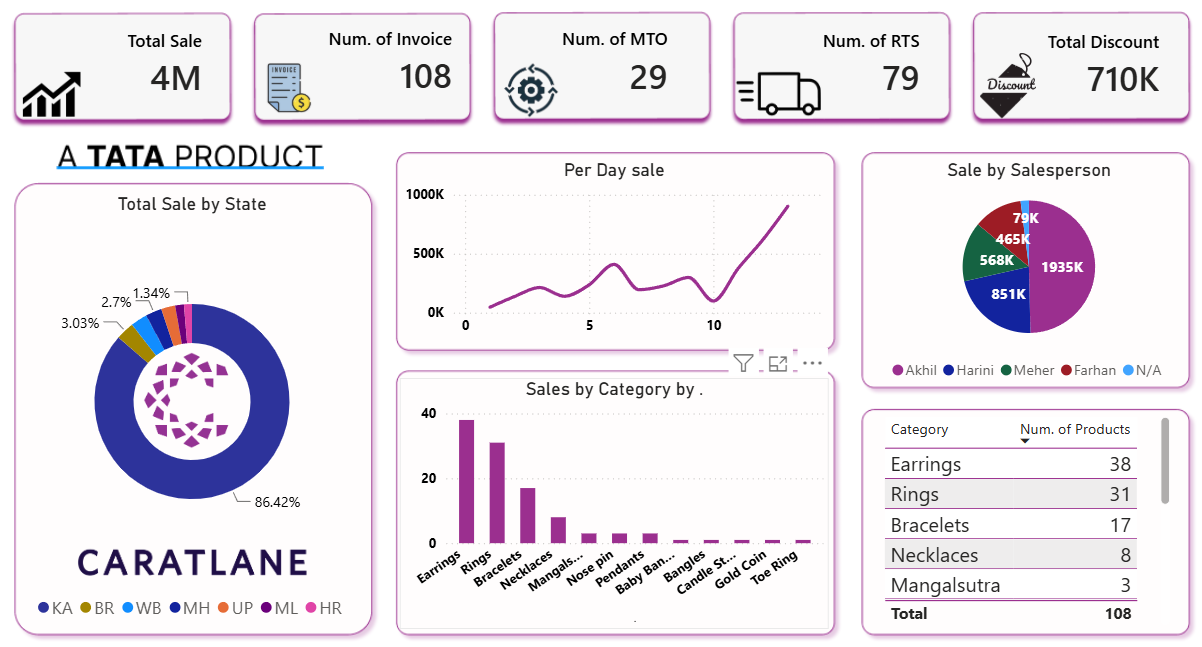

What the dashboard file says about the page in this screenshot:
{"tool":"powerbi","page":{"name":"Page 1","canvas":[1280,720],"ordinal":0},"visuals":[{"type":"cardVisual","fields":{"Data":["Sum(Sales_Invoice_Detail_14062026071228.FINAL_PRICE)"]},"box":[100.2,70,183.9,94.7],"z":0},{"type":"cardVisual","fields":{"Data":["CountNonNull(Sales_Invoice_Detail_14062026071228.INVOICE_DATE)"]},"box":[333.7,66.3,182.6,96.5],"z":1000},{"type":"cardVisual","fields":{"Data":["Sales_Invoice_Detail_14062026071228.No.of RTS"]},"box":[769.8,70,181.1,94.7],"z":2000},{"type":"cardVisual","fields":{"Data":["Sales_Invoice_Detail_14062026071228.No.of MTO"]},"box":[559.9,65.9,157.8,98.8],"z":3000},{"type":"donutChart","title":"Total Sale by State","fields":{"Category":["Sales_Invoice_Detail_14062026071228.BILLING_STATE"],"Y":["Sales_Invoice_Detail_14062026071228.TSBSP"]},"box":[100,237.2,314,405.8],"z":4000},{"type":"clusteredColumnChart","fields":{"Category":["Sales_Invoice_Detail_14062026071228.SUB_CATEGORY_2"],"Y":["CountNonNull(Sales_Invoice_Detail_14062026071228.SUB_CATEGORY_2)"]},"box":[450.1,408.9,399.3,234.6],"z":5000},{"type":"cardVisual","fields":{"Data":["Sum(Sales_Invoice_Detail_14062026071228.TOTAL_DISCOUNT)"]},"box":[996.2,70,177,96.1],"z":6000},{"type":"lineChart","title":"Per Day sale","fields":{"Y":["Sum(Sales_Invoice_Detail_14062026071228.FINAL_PRICE)"],"Category":["Sales_Invoice_Detail_14062026071228.INVOICE_DATE.Variation.Date Hierarchy.Day"]},"box":[450.1,205.8,399.3,172.9],"z":7000},{"type":"pieChart","title":"Sale by Salesperson","fields":{"Category":["Sales_Invoice_Detail_14062026071228.SALES_PERSON"],"Y":["Sales_Invoice_Detail_14062026071228.TSBSP"]},"box":[886.5,205.8,300.5,215.4],"z":8000},{"type":"tableEx","fields":{"Values":["Sales_Invoice_Detail_14062026071228.SUB_CATEGORY_2","CountNonNull(Sales_Invoice_Detail_14062026071228.SUB_CATEGORY_2)"]},"box":[885.1,440.5,301.9,203.1],"z":9000},{"type":"image","box":[197.7,381.4,108.1,98.8],"z":10000},{"type":"image","box":[143,526.7,226.7,98.8],"z":11000},{"type":"image","box":[80.2,118.6,91.9,53.5],"z":11001},{"type":"image","box":[516.3,89.5,111.6,126.7],"z":11002},{"type":"image","box":[301.2,107,91.9,65.1],"z":11003},{"type":"image","box":[757,118.6,91.9,47.7],"z":11004},{"type":"image","box":[967.4,107,96.5,65.1],"z":11005}]}

Visuals, with their boxes in screenshot pixels (x1, y1, x2, y2):
cardVisual - Sum(Sales_Invoice_Detail_14062026071228.FINAL_PRICE): BBox(161, 34, 324, 118)
cardVisual - CountNonNull(Sales_Invoice_Detail_14062026071228.INVOICE_DATE): BBox(368, 31, 530, 116)
cardVisual - Sales_Invoice_Detail_14062026071228.No.of RTS: BBox(755, 34, 916, 118)
cardVisual - Sales_Invoice_Detail_14062026071228.No.of MTO: BBox(569, 30, 709, 118)
"Total Sale by State" donutChart: BBox(161, 182, 439, 542)
clusteredColumnChart - Sales_Invoice_Detail_14062026071228.SUB_CATEGORY_2 x CountNonNull(Sales_Invoice_Detail_14062026071228.SUB_CATEGORY_2): BBox(471, 335, 826, 543)
cardVisual - Sum(Sales_Invoice_Detail_14062026071228.TOTAL_DISCOUNT): BBox(956, 34, 1113, 119)
"Per Day sale" lineChart: BBox(471, 154, 826, 308)
"Sale by Salesperson" pieChart: BBox(859, 154, 1125, 346)
tableEx - Sales_Invoice_Detail_14062026071228.SUB_CATEGORY_2 x CountNonNull(Sales_Invoice_Detail_14062026071228.SUB_CATEGORY_2): BBox(858, 363, 1125, 543)
image: BBox(247, 310, 343, 398)
image: BBox(199, 439, 400, 527)
image: BBox(143, 77, 225, 125)
image: BBox(530, 51, 629, 164)
image: BBox(339, 67, 421, 125)
image: BBox(744, 77, 825, 119)
image: BBox(931, 67, 1016, 125)
